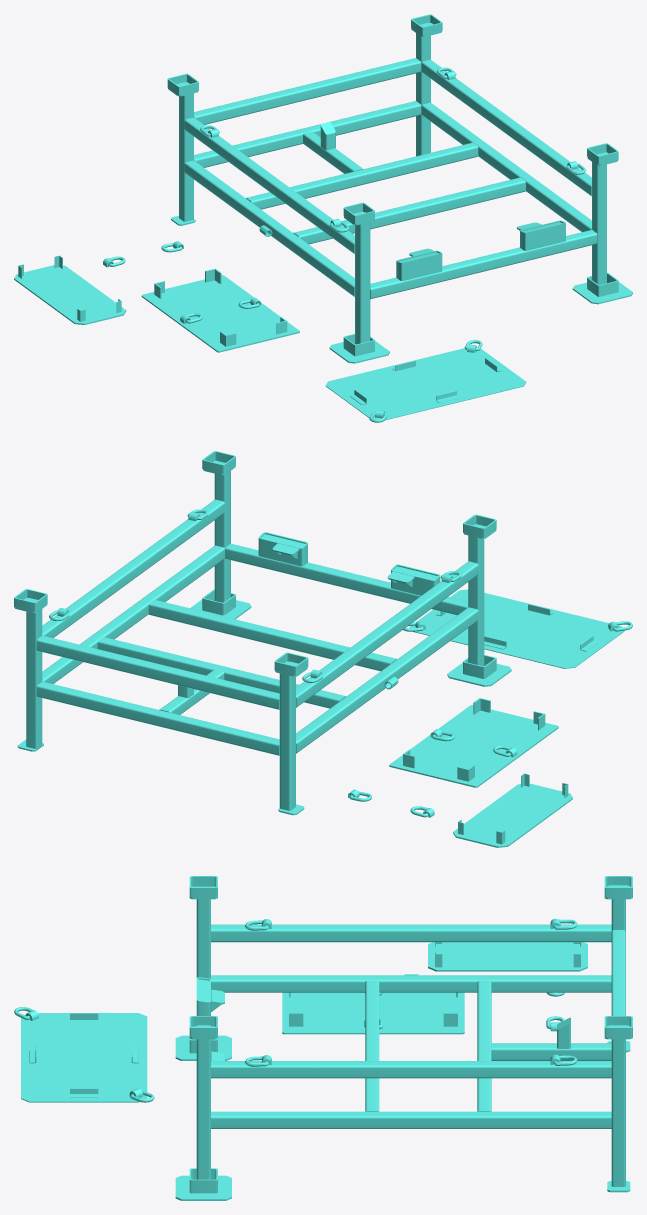
File: SM_ShippingContainer_Fixtures_02.fbx
The picture shows the model from 3 angles, top to bottom: view 1: azimuth 30°, elevation 25°; view 2: azimuth 150°, elevation 25°; view 3: azimuth 270°, elevation 25°; orthographic projection. The views are drawn at different scales.
Parts seen in each view (by area): view 1: Cube.004; view 2: Cube.004; view 3: Cube.004.
Part boxes in pixels (x1,y1,x2,y2): Cube.004: [14, 14, 632, 422]; Cube.004: [14, 451, 632, 847]; Cube.004: [14, 876, 632, 1200].
Size of the model in its own units: 218 by 65.72 by 221.
